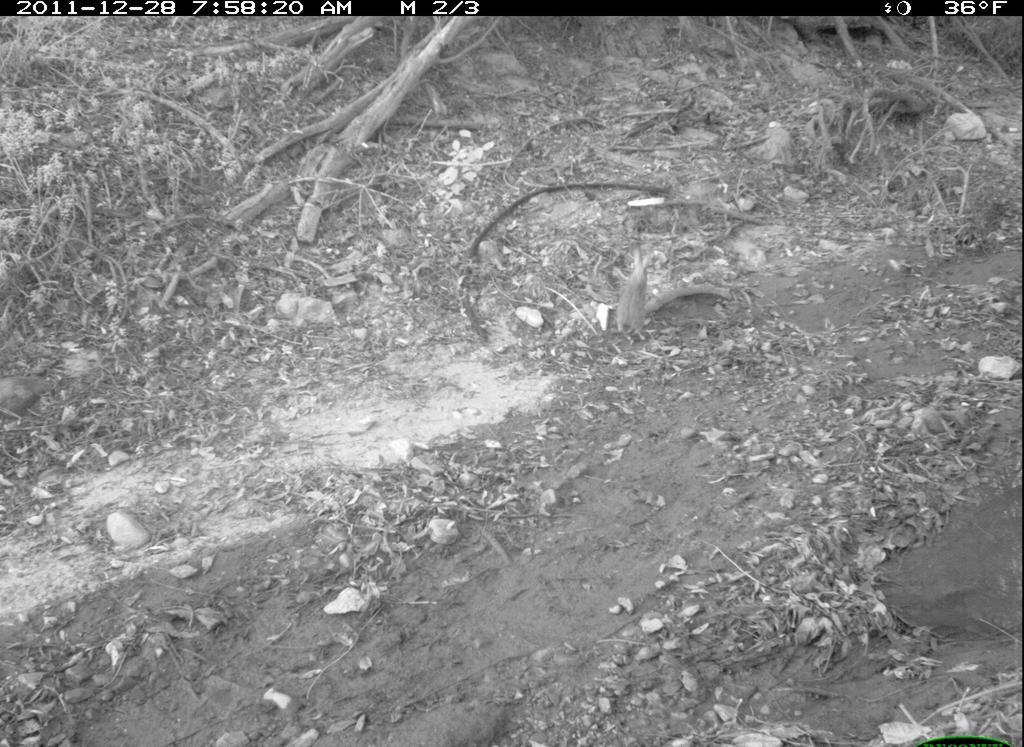rabbit: (600, 248, 678, 360)
